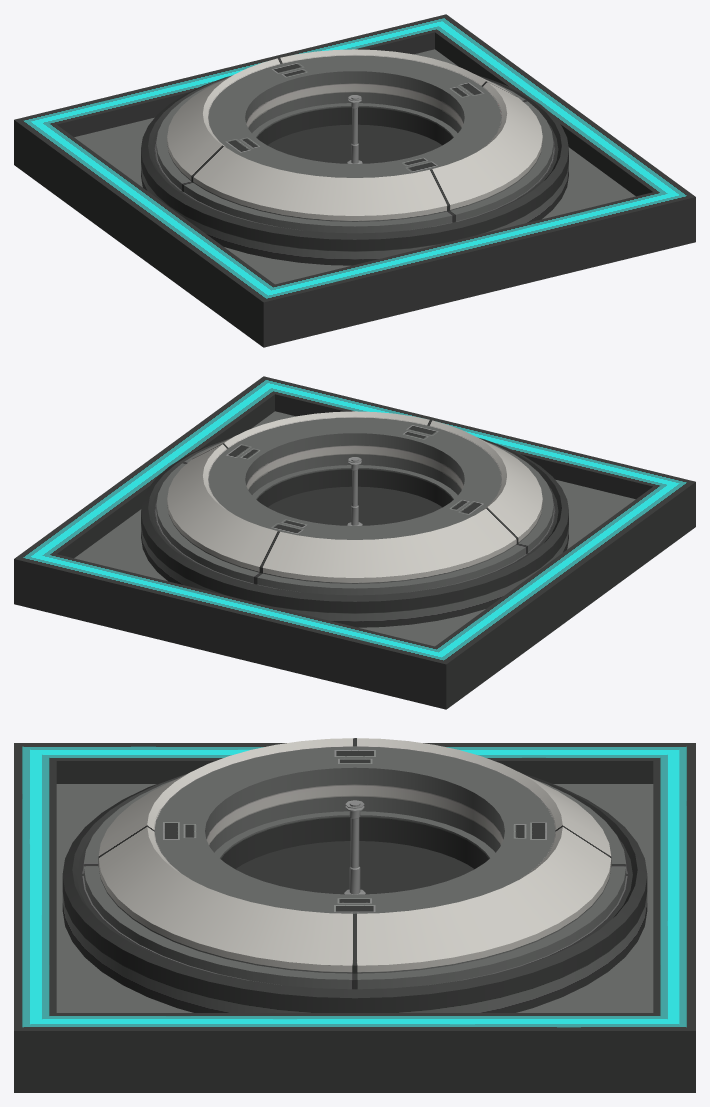
Rendered from EDITOR_laserrecw.obj.
The picture shows the model from 3 angles, top to bottom: view 1: azimuth 30°, elevation 25°; view 2: azimuth 150°, elevation 25°; view 3: azimuth 270°, elevation 25°; orthographic projection. The views are drawn at different scales.
Parts seen in each view (by area): view 1: Body.dmx/laser_catcher_offset_model.dmx.mesh_0; view 2: Body.dmx/laser_catcher_offset_model.dmx.mesh_0; view 3: Body.dmx/laser_catcher_offset_model.dmx.mesh_0.
Boxes of the visible parts, <box> form: Body.dmx/laser_catcher_offset_model.dmx.mesh_0: <box>14,14,695,347</box>; Body.dmx/laser_catcher_offset_model.dmx.mesh_0: <box>14,376,695,709</box>; Body.dmx/laser_catcher_offset_model.dmx.mesh_0: <box>14,738,695,1092</box>.
Bounding box in the file's own units: 64 × 15.07 × 64.
